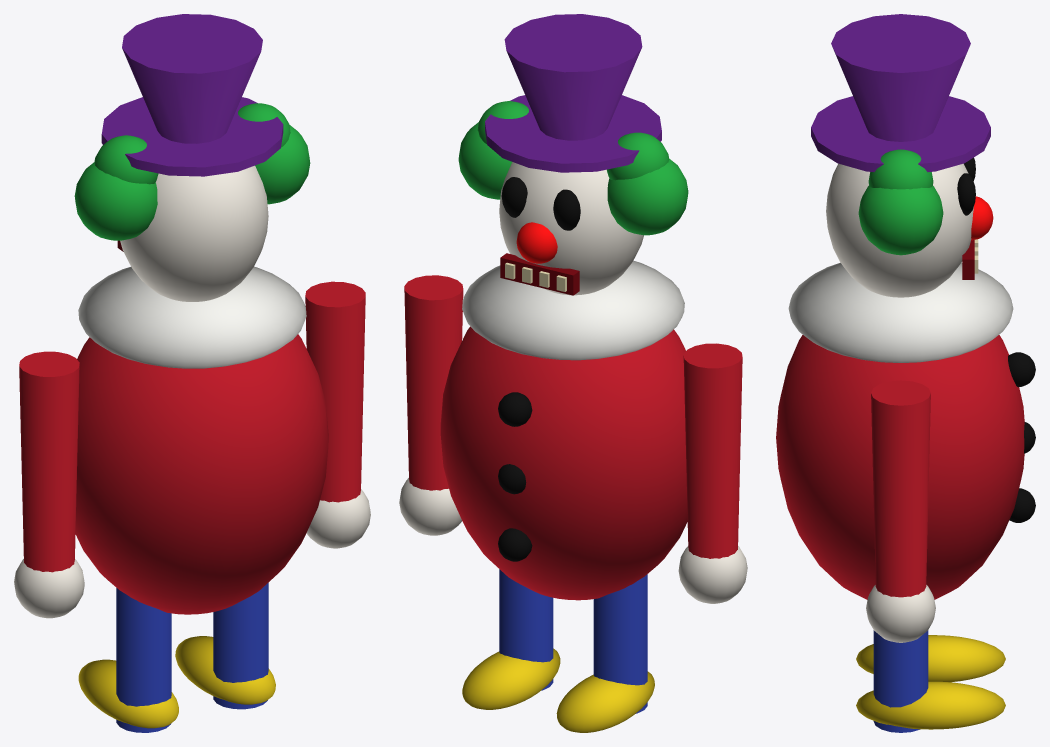
Rendered from Clown.obj.
3 views of the same model, side by side, from view 1: azimuth 30°, elevation 25°; view 2: azimuth 150°, elevation 25°; view 3: azimuth 270°, elevation 25° (orthographic). The views are drawn at different scales.
Parts seen in each view (by area): view 1: Clown; view 2: Clown; view 3: Clown.
Boxes of the visible parts, <box> form: Clown: <box>14,14,370,732</box>; Clown: <box>399,14,747,732</box>; Clown: <box>776,14,1035,732</box>.
Size of the model in its own units: 1.58 by 2.9 by 1.04.
